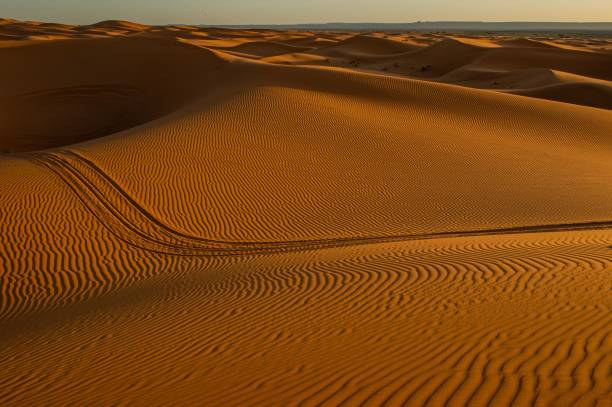vehicle_track: (31, 149, 611, 255)
